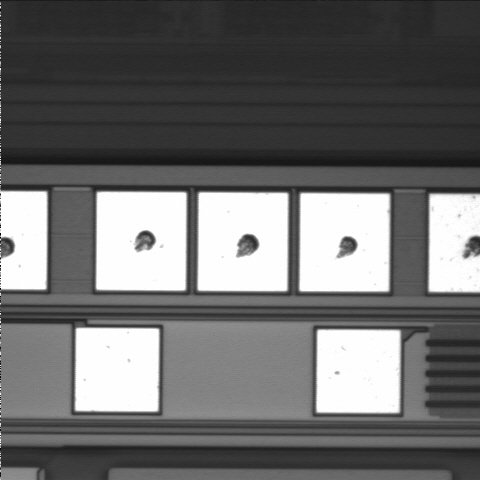pad: (96, 192, 186, 291), (198, 193, 288, 291), (300, 193, 390, 291), (75, 328, 159, 411), (317, 330, 400, 413)
